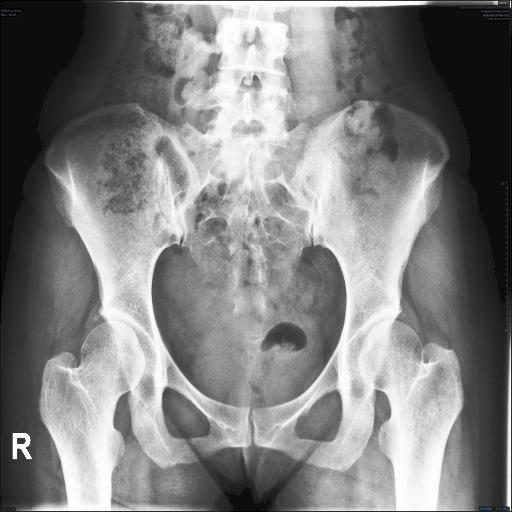normal: (38, 321, 145, 512), (358, 320, 464, 512)
